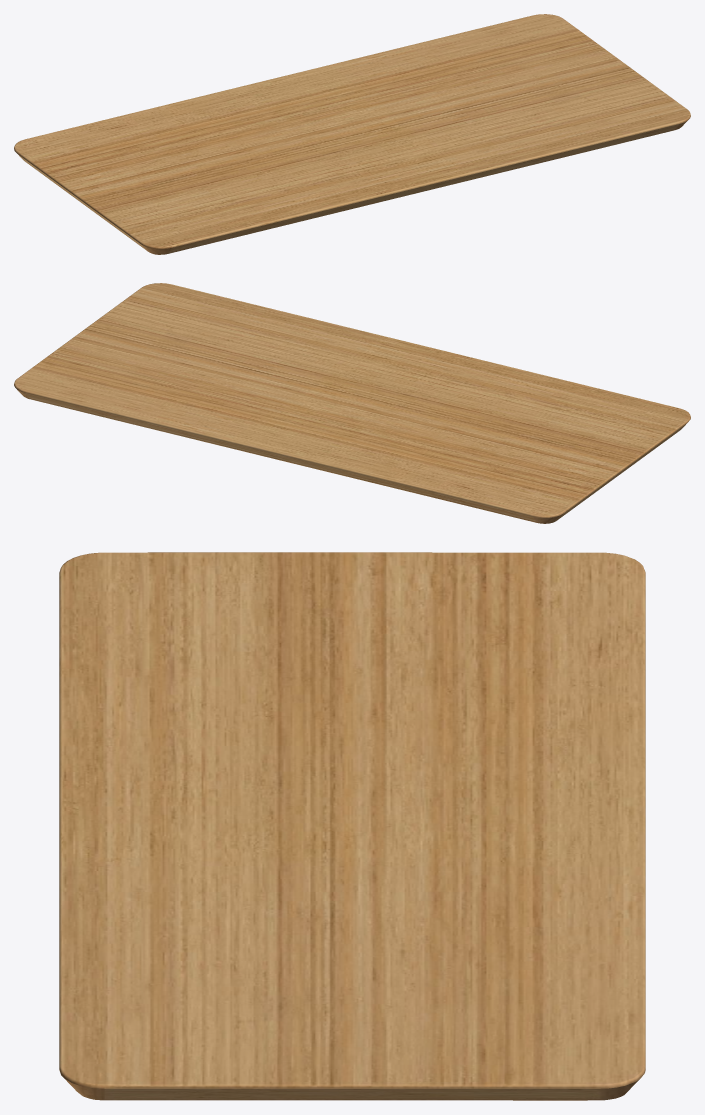
File: ANFALLARE_00465141.glb
3 views of the same model, one above another, from view 1: azimuth 30°, elevation 25°; view 2: azimuth 150°, elevation 25°; view 3: azimuth 270°, elevation 25° (orthographic). The views are drawn at different scales.
Parts seen in each view (by area): view 1: model; view 2: model; view 3: model.
Boxes of the visible parts, left/top/right/bottom form: model: left=14, top=14, right=690, bottom=254; model: left=14, top=283, right=690, bottom=523; model: left=59, top=552, right=645, bottom=1100.
Size of the model in its own units: 1.4 by 0.0281 by 0.65.
1 material, 1 textured.
